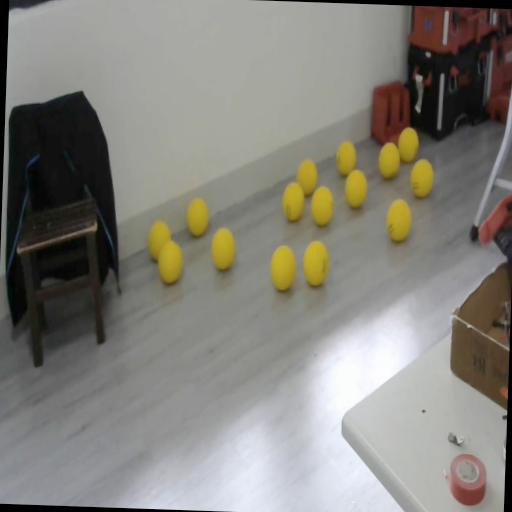FUEL: (268, 243, 296, 292), (156, 237, 184, 285), (301, 238, 329, 286), (208, 224, 236, 270), (384, 197, 412, 243), (184, 196, 210, 237), (309, 184, 334, 226), (344, 168, 368, 209), (281, 180, 304, 222), (410, 157, 434, 197), (377, 140, 401, 180), (295, 157, 318, 195), (334, 140, 356, 176), (396, 126, 418, 162)
